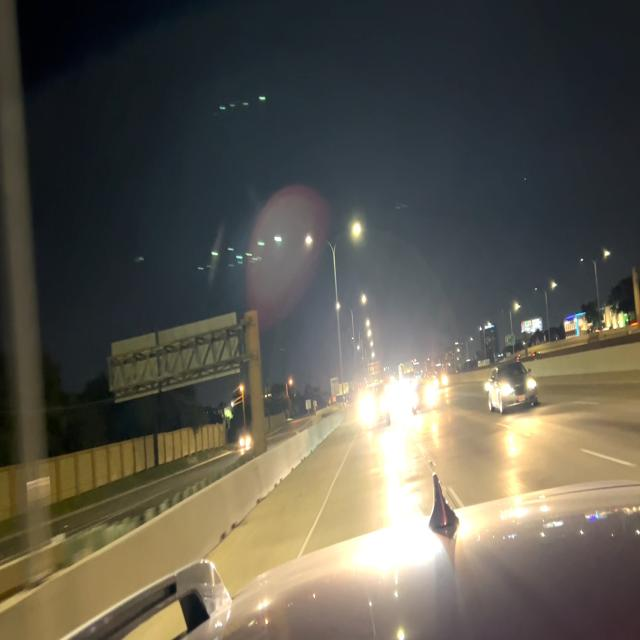back-of-sign: (112, 310, 238, 403), (330, 372, 341, 399)
